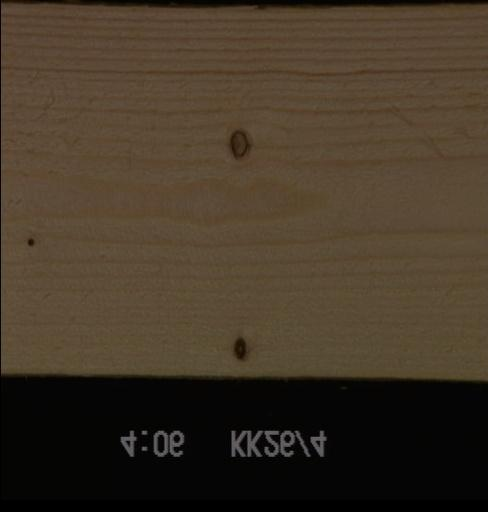dry_knot: (226, 127, 248, 160), (230, 335, 246, 361)
small_knot: (22, 235, 34, 249)
